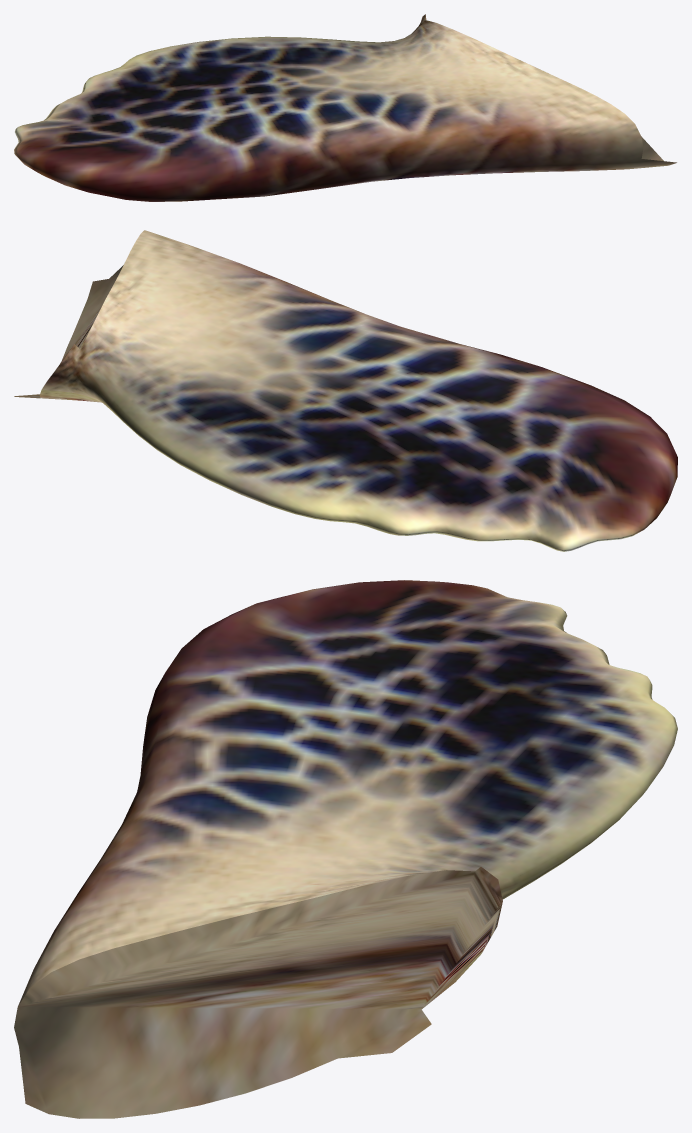
Rendered from AletaTraDer.obj.
3 renders of one model, top to bottom at view 1: azimuth 30°, elevation 25°; view 2: azimuth 150°, elevation 25°; view 3: azimuth 270°, elevation 25°, orthographic. The views are drawn at different scales.
Visible parts, largest first — view 1: AletaTraDer; view 2: AletaTraDer; view 3: AletaTraDer.
Boxes of the visible parts, bbox=[...] form: AletaTraDer: bbox=[14, 14, 676, 201]; AletaTraDer: bbox=[14, 230, 677, 551]; AletaTraDer: bbox=[14, 580, 677, 1118].
Bounding box in the file's own units: 5.66 × 0.9729 × 3.57.
